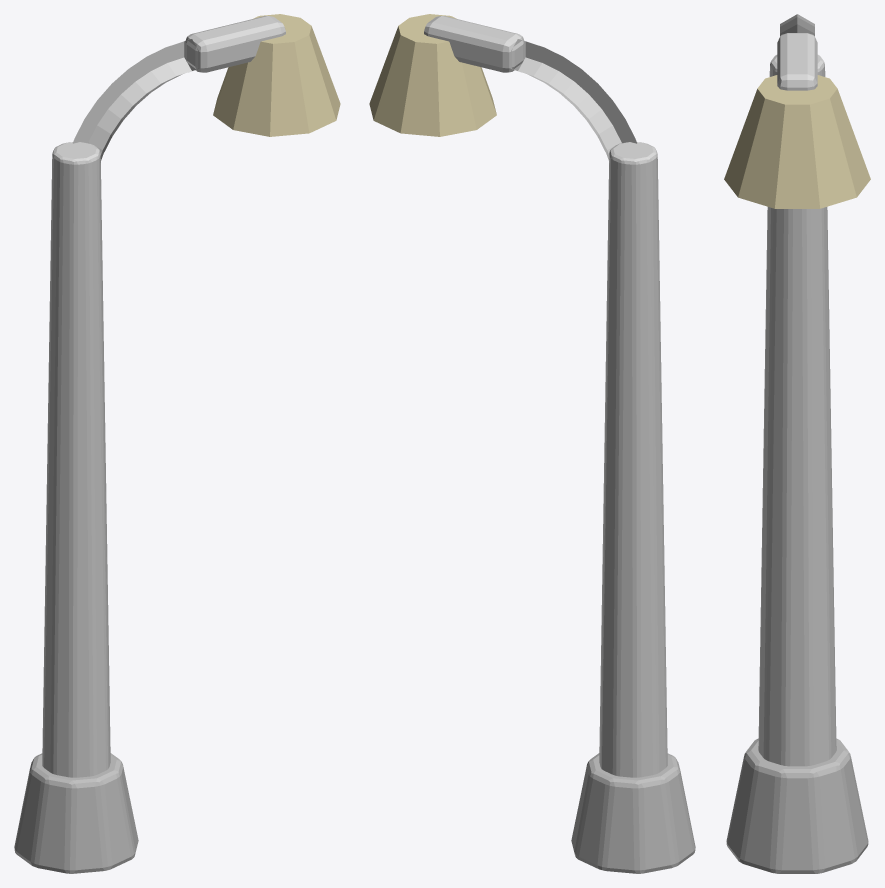
The model's file is streetlamp.glb.
3 renders of one model, left to right at view 1: azimuth 30°, elevation 25°; view 2: azimuth 150°, elevation 25°; view 3: azimuth 270°, elevation 25°, orthographic. The views are drawn at different scales.
Parts seen in each view (by area): view 1: streetlamp; view 2: streetlamp; view 3: streetlamp.
Boxes of the visible parts, x1,y1,x2,y2 form: streetlamp: (14,14,340,873); streetlamp: (369,14,695,873); streetlamp: (724,14,870,873).
Size of the model in its own units: 1.19 by 2.91 by 0.44.
